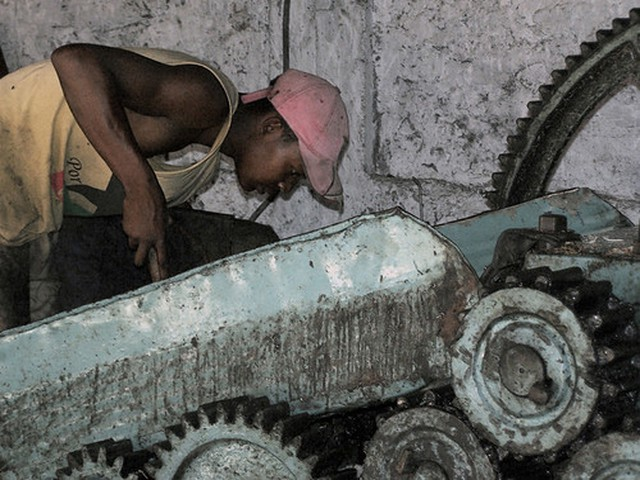Person: (3, 33, 355, 242)
